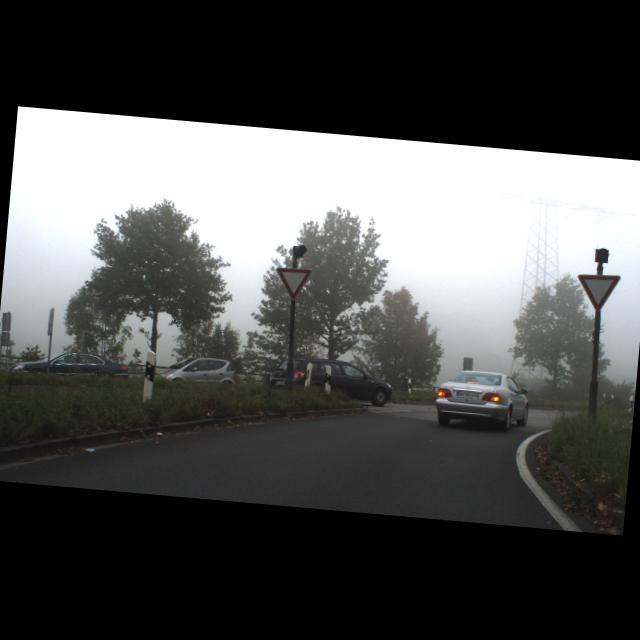other: (573, 271, 620, 313), (272, 265, 312, 300)
